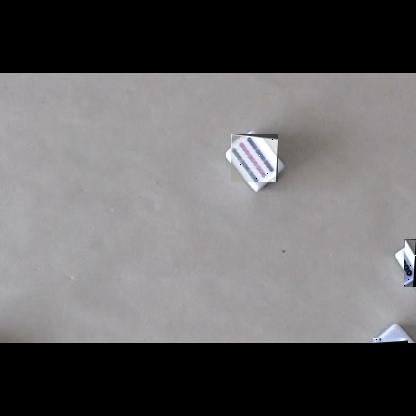1s: (372, 338, 408, 343)
6s: (404, 239, 416, 287)
9s: (231, 134, 278, 182)
